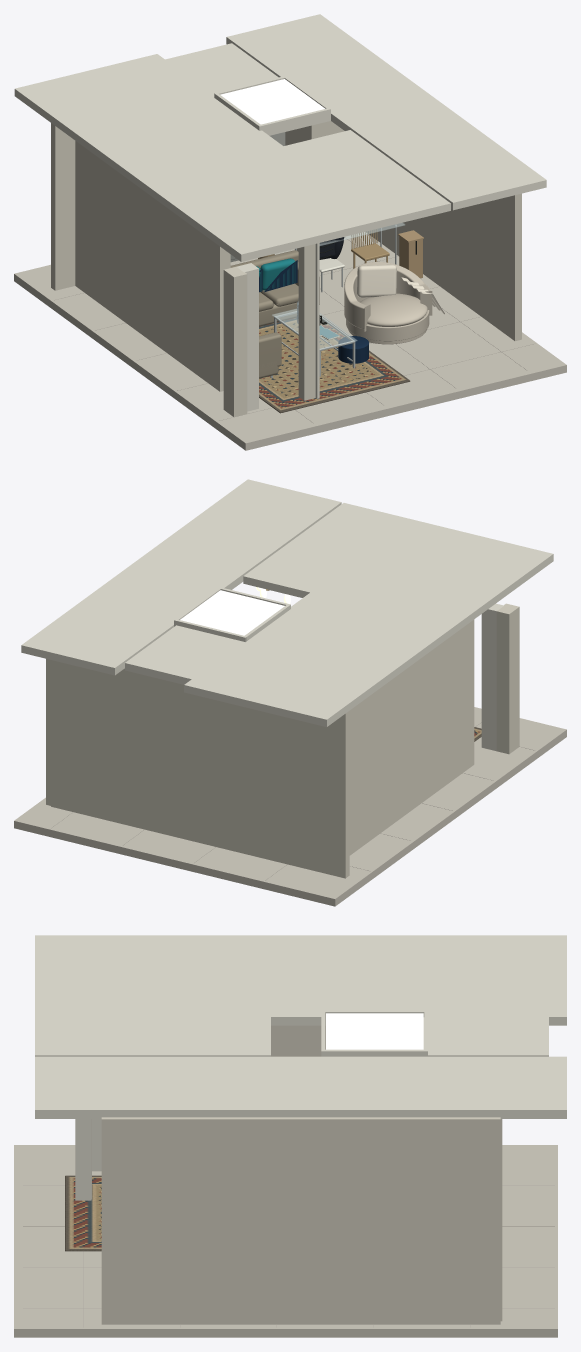
Rendered from astra.glb.
3 views of the same model, one above another, from view 1: azimuth 30°, elevation 25°; view 2: azimuth 150°, elevation 25°; view 3: azimuth 270°, elevation 25° (orthographic). The views are drawn at different scales.
Parts seen in each view (by area): view 1: Ceiling left slab, Stone floor, Ceiling right slab, Left structural wall, Right living room wall, Ceiling front slab, Persian rectangular area rug, Rear kitchen wall, Left foreground wall face, Ceiling rear slab, Foreground left doorway jamb, Roof light blue glazing (+12 smaller); view 2: Rear kitchen wall, Ceiling left slab, Ceiling right slab, Stone floor, Left structural wall, Ceiling front slab, Ceiling rear slab, Left foreground wall face, Roof light blue glazing, Left foreground doorway reveal, Right living room wall; view 3: Right living room wall, Ceiling left slab, Ceiling right slab, Stone floor, Ceiling front slab, Ceiling rear slab, Roof light blue glazing, Persian rectangular area rug, Left structural wall, Foreground doorway narrow white casing, Roof light side reveal.001, Rear kitchen wall (+1 smaller).
Boxes of the visible parts, x1,y1,x2,y2 form: Ceiling left slab: (14, 54, 383, 261); Stone floor: (14, 232, 566, 450); Ceiling right slab: (226, 14, 546, 210); Left structural wall: (75, 141, 230, 391); Right living room wall: (366, 193, 521, 340); Ceiling front slab: (284, 130, 450, 226); Persian rectangular area rug: (259, 315, 410, 413); Rear kitchen wall: (51, 121, 344, 290); Left foreground wall face: (223, 267, 247, 416); Ceiling rear slab: (165, 43, 278, 94); Foreground left doorway jamb: (298, 244, 315, 400); Roof light blue glazing: (220, 79, 325, 124); Rear kitchen wall: (51, 660, 349, 878); Ceiling left slab: (184, 519, 553, 727); Ceiling right slab: (21, 479, 341, 675); Stone floor: (14, 707, 566, 906); Left structural wall: (349, 619, 474, 855); Ceiling front slab: (243, 503, 410, 597); Ceiling rear slab: (125, 625, 242, 684); Left foreground wall face: (496, 603, 519, 754); Roof light blue glazing: (180, 590, 284, 635); Left foreground doorway reveal: (481, 603, 503, 751); Right living room wall: (46, 659, 50, 805); Right living room wall: (101, 1117, 500, 1324); Ceiling left slab: (35, 935, 566, 1025); Ceiling right slab: (35, 1056, 566, 1118); Stone floor: (14, 1145, 557, 1337); Ceiling front slab: (35, 1017, 270, 1056); Ceiling rear slab: (423, 1017, 548, 1056); Roof light blue glazing: (326, 1013, 423, 1049); Persian rectangular area rug: (65, 1175, 101, 1251); Left structural wall: (271, 1025, 325, 1056); Foreground doorway narrow white casing: (75, 1119, 91, 1200); Roof light side reveal.001: (323, 1049, 426, 1056); Rear kitchen wall: (500, 1119, 502, 1321).
Size of the model in its own units: 7.2 by 4.13 by 9.15.
Materials: 29 (1 with a texture image).
